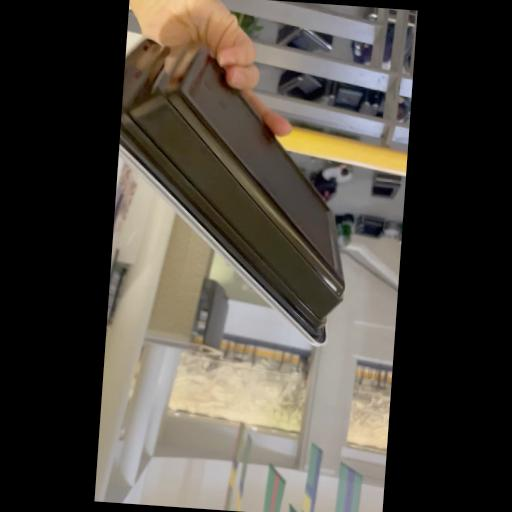rigid_plastic_container: (106, 18, 390, 360)
